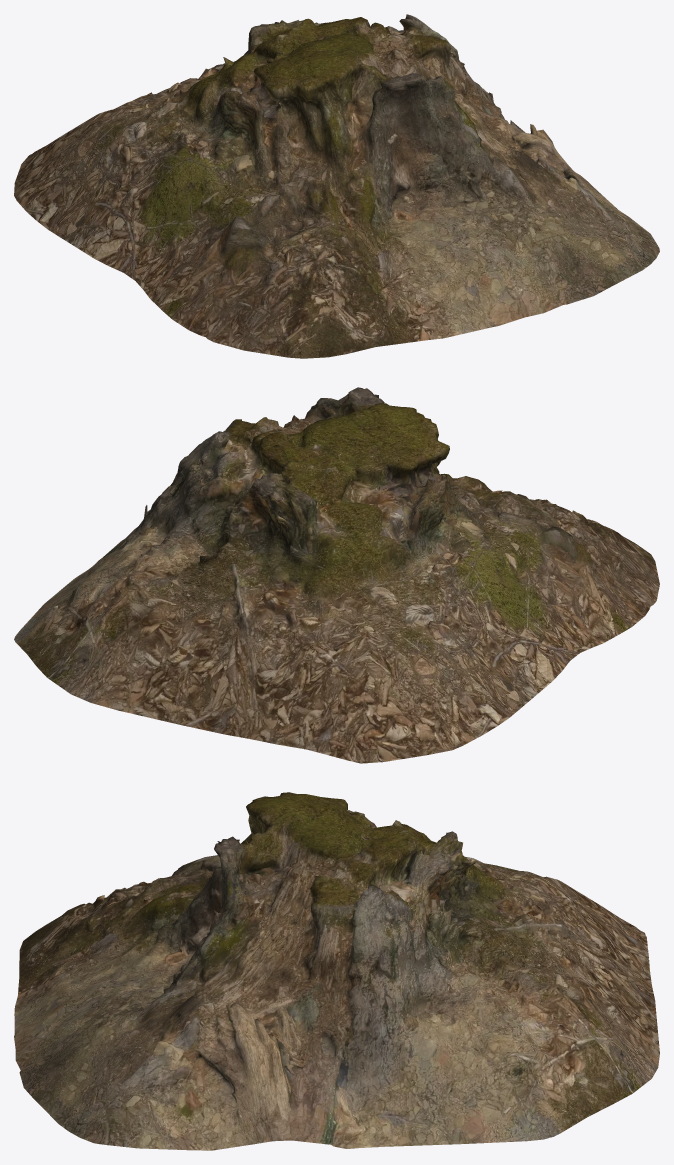
File: tree_stump_01.glb
The picture shows the model from 3 angles, top to bottom: view 1: azimuth 30°, elevation 25°; view 2: azimuth 150°, elevation 25°; view 3: azimuth 270°, elevation 25°; orthographic projection. The views are drawn at different scales.
Visible parts, largest first — view 1: tree_stump_01; view 2: tree_stump_01; view 3: tree_stump_01.
Boxes of the visible parts, x1,y1,x2,y2 form: tree_stump_01: (14,14,659,358); tree_stump_01: (14,387,659,763); tree_stump_01: (14,792,659,1150).
Bounding box in the file's own units: 1.43 × 0.5725 × 1.59.
1 material, 1 textured.
